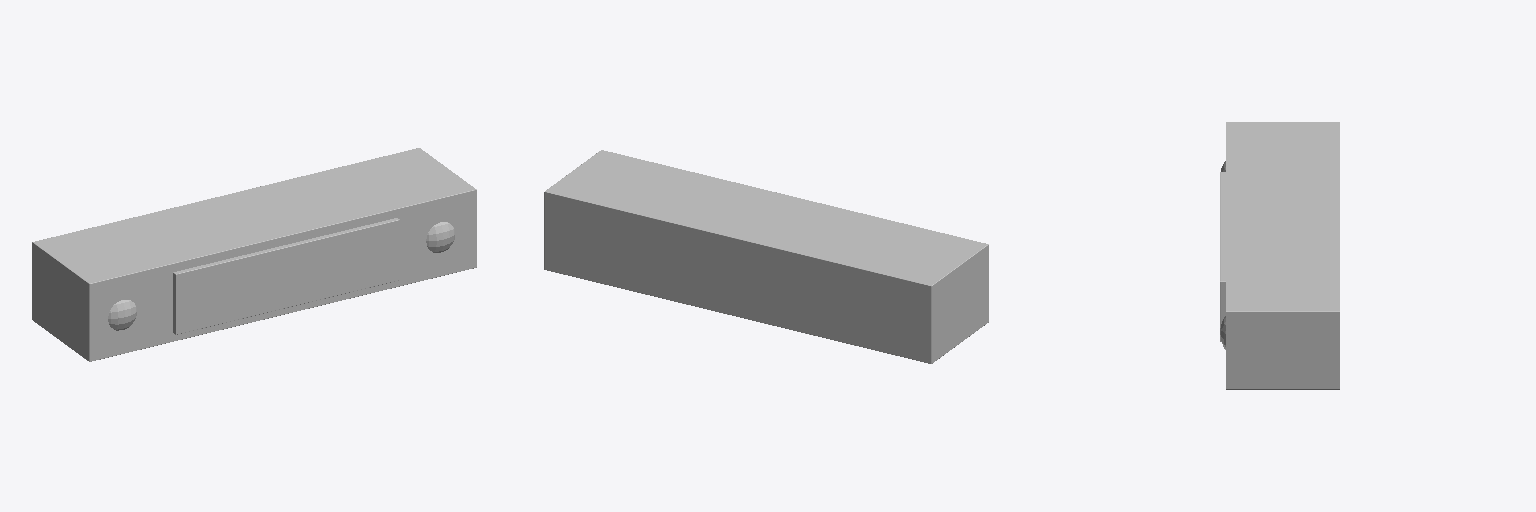
Rendered from stereo.obj.
3 views of the same model, side by side, from view 1: azimuth 30°, elevation 25°; view 2: azimuth 150°, elevation 25°; view 3: azimuth 270°, elevation 25° (orthographic).
Parts seen in each view (by area): view 1: Würfel.7_3, Würfel_3, Kugel_2, Kugel_3; view 2: Würfel.7_3; view 3: Würfel.7_3, Würfel_3.
Part boxes in pixels (left/top/right/bottom): Würfel.7_3: left=32, top=148, right=476, bottom=361; Würfel_3: left=173, top=218, right=399, bottom=334; Kugel_2: left=426, top=222, right=454, bottom=252; Kugel_3: left=108, top=300, right=136, bottom=330; Würfel.7_3: left=544, top=150, right=988, bottom=363; Würfel.7_3: left=1226, top=122, right=1339, bottom=389; Würfel_3: left=1220, top=172, right=1225, bottom=341.
Bounding box in the file's own units: 78.02 × 15.08 × 21.01.